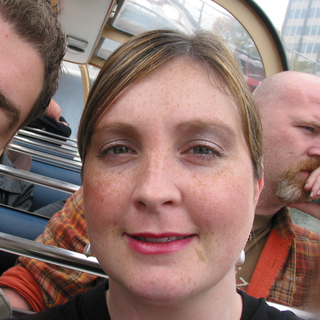eye: (172, 135, 231, 168), (88, 138, 142, 162), (290, 118, 320, 136)
